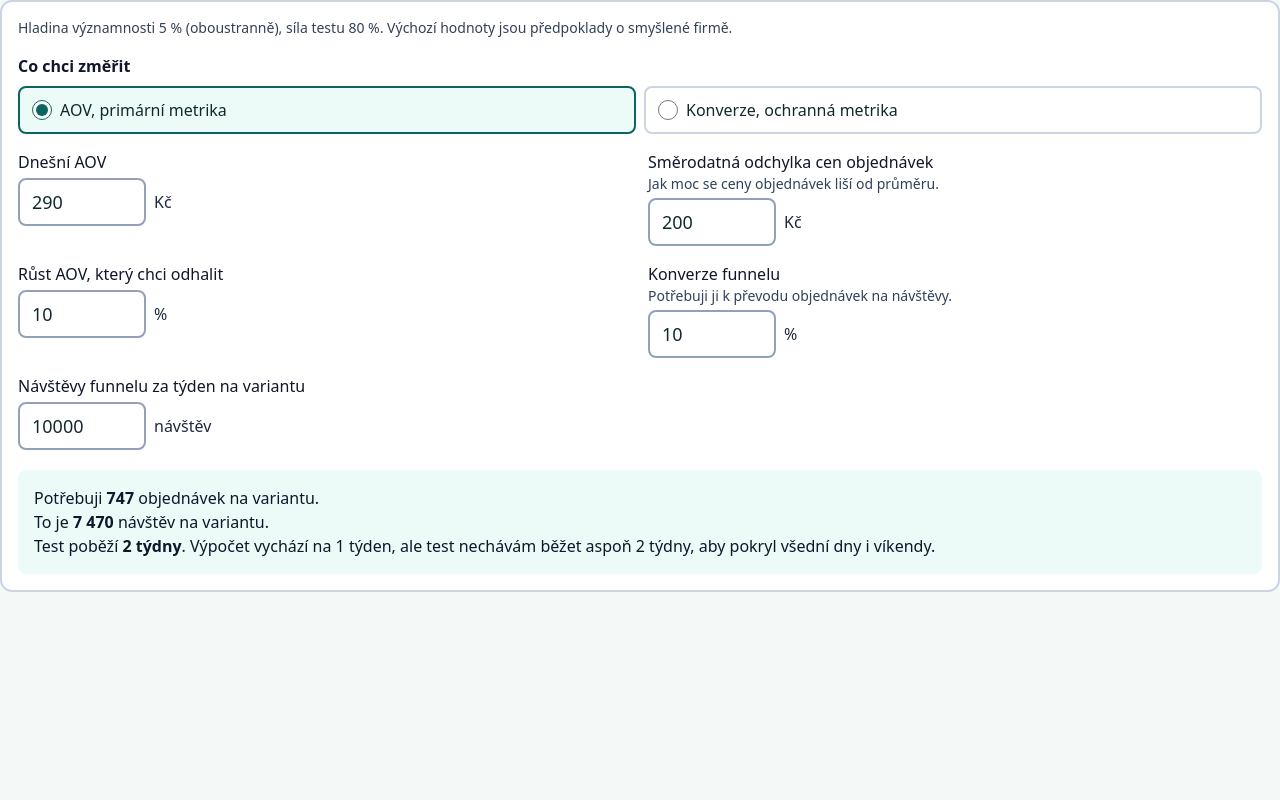
Test case: SampleSizeCalculator › u neplatného vstupu ukáže chybu místo výsledku
The width and height of the screenshot is (1280, 800).
Clear the field labelled "Dnešní AOV" at (82, 202), box [18,178,146,226]
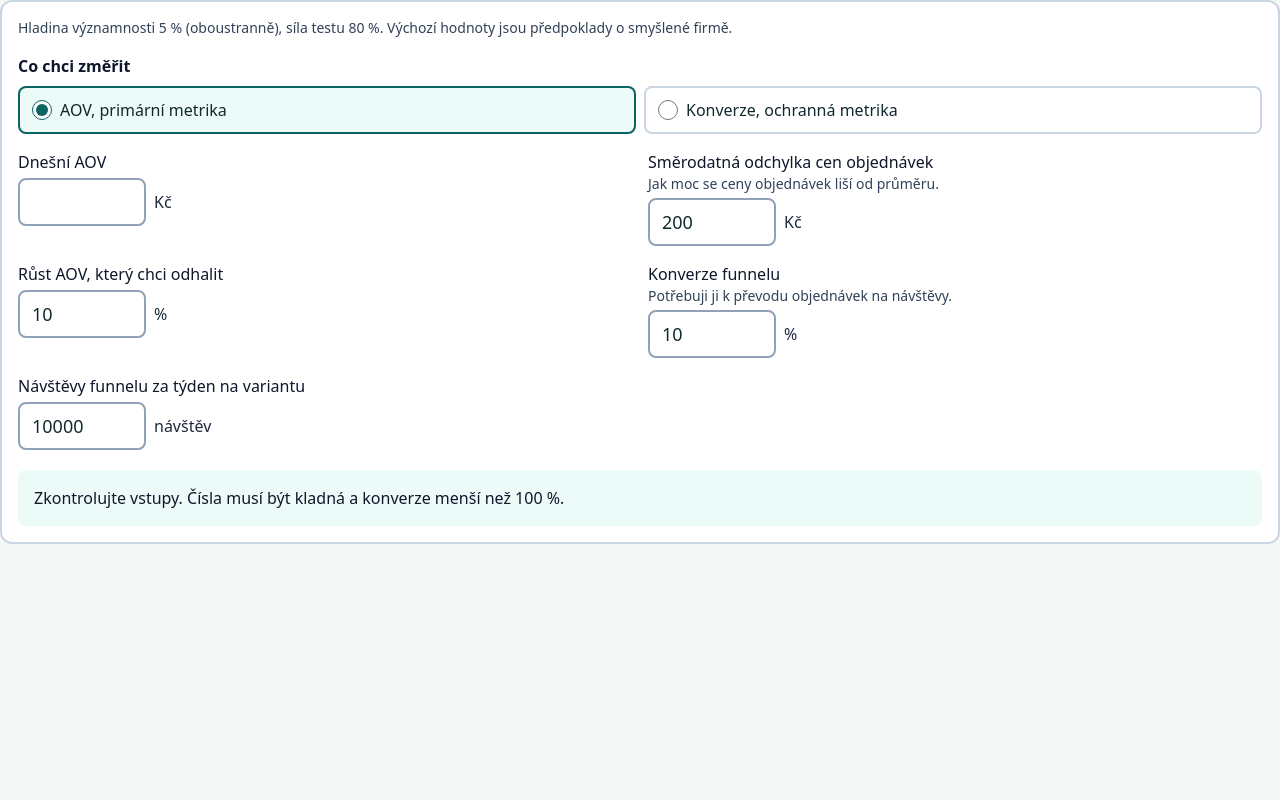
Expected: the text "Zkontrolujte vstupy" is shown, [34,487,564,509]
